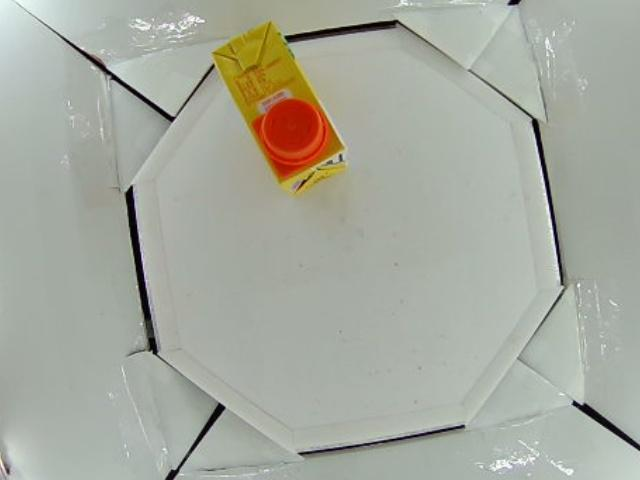Bottle: (211, 20, 350, 195)
